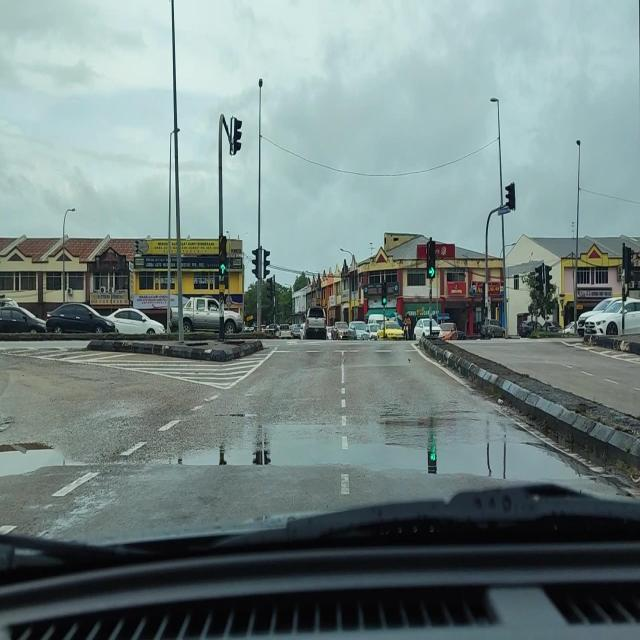green_light: (218, 236, 226, 274), (428, 242, 436, 278), (382, 282, 386, 304)
